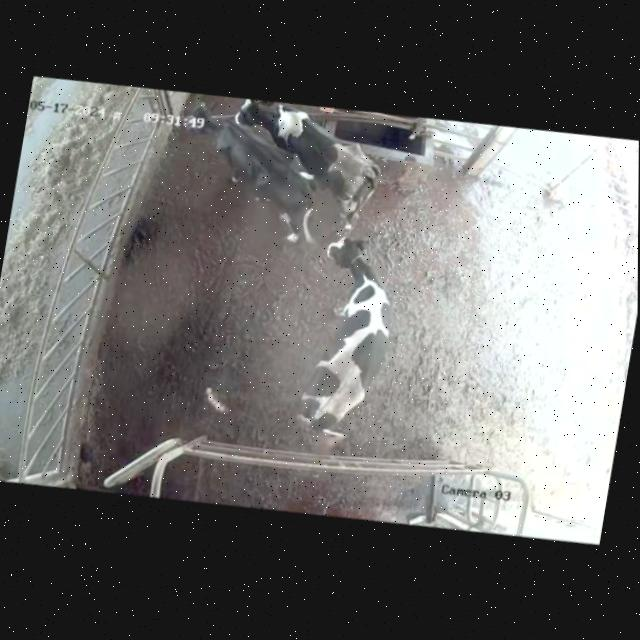stand: (281, 219, 422, 462), (157, 93, 334, 262), (228, 88, 391, 231)
